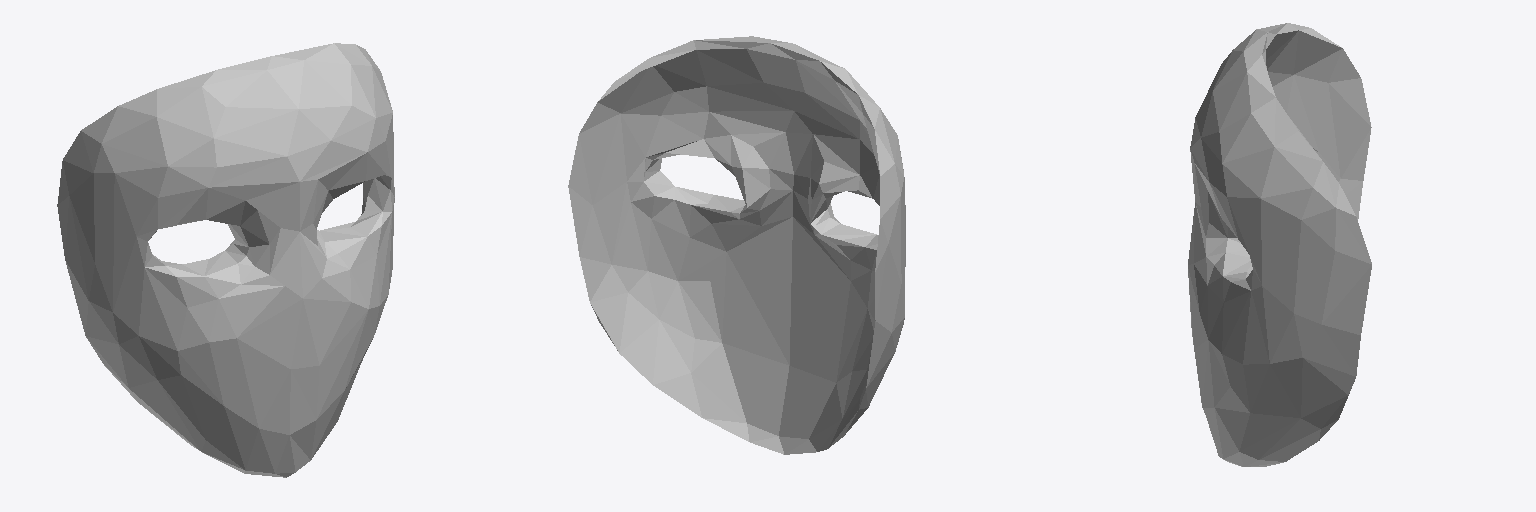
Rendered from mask.obj.
3 views of the same model, side by side, from view 1: azimuth 30°, elevation 25°; view 2: azimuth 150°, elevation 25°; view 3: azimuth 270°, elevation 25° (orthographic).
Visible parts, largest first — view 1: body_Circle.001; view 2: body_Circle.001; view 3: body_Circle.001.
Boxes of the visible parts, x1=… form: body_Circle.001: x1=57, y1=43, x2=394, y2=477; body_Circle.001: x1=568, y1=36, x2=905, y2=454; body_Circle.001: x1=1188, y1=23, x2=1371, y2=466.
Size of the model in its own units: 0.5612 by 0.7147 by 0.2919.